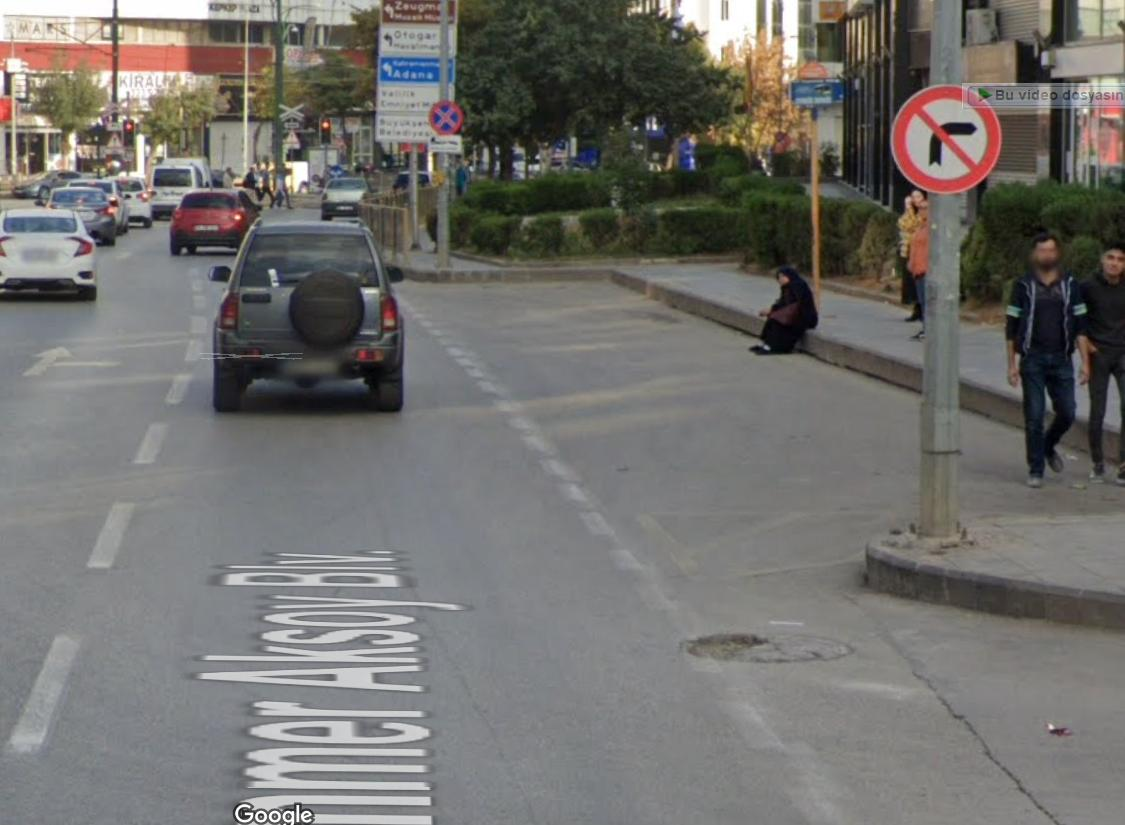redlight: (123, 118, 136, 147), (321, 117, 331, 145)
rightturnsareforbidden: (898, 83, 999, 186)
